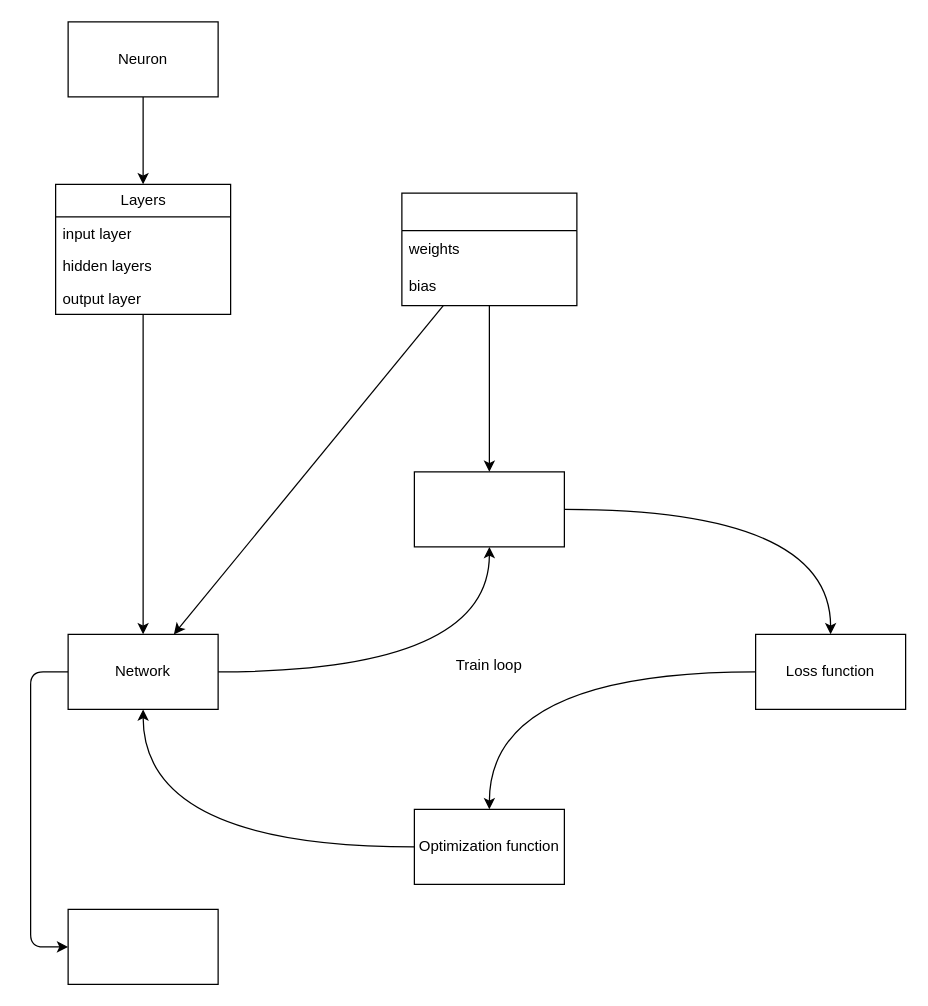
Image size: 928x1006. Some labels were removed from this diagram. Here are the shapes that lost their labels. From the top down, the box of each, then its label:
(401, 192, 577, 306): Connection
(413, 471, 564, 547): Activation function
(67, 908, 218, 984): Validation
